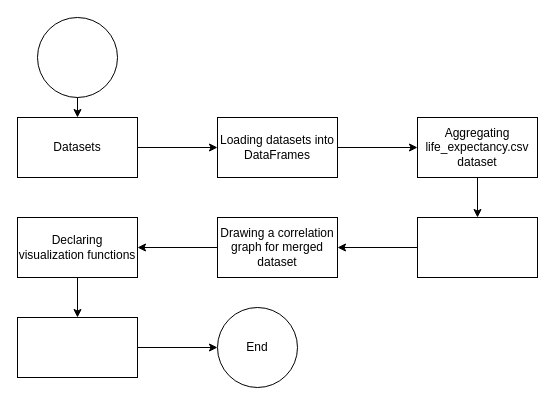
This 555x405 diagram has some shape labels left out. Each missing label, with the centre of its shape:
"Calling visualization functions in order to show our findings" goes at pixel 77 347.
"Merging 'countries of the world.csv' dataset with aggregated dataset" goes at pixel 477 247.
"Start" goes at pixel 77 57.
